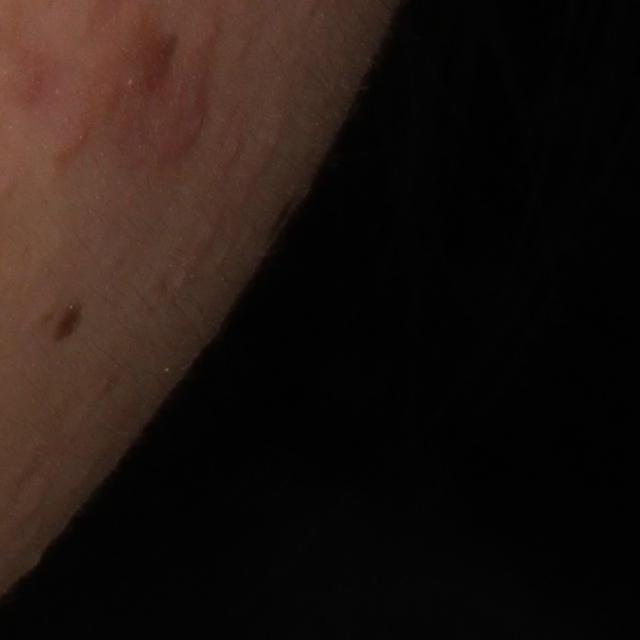nevus: (51, 297, 85, 344)
